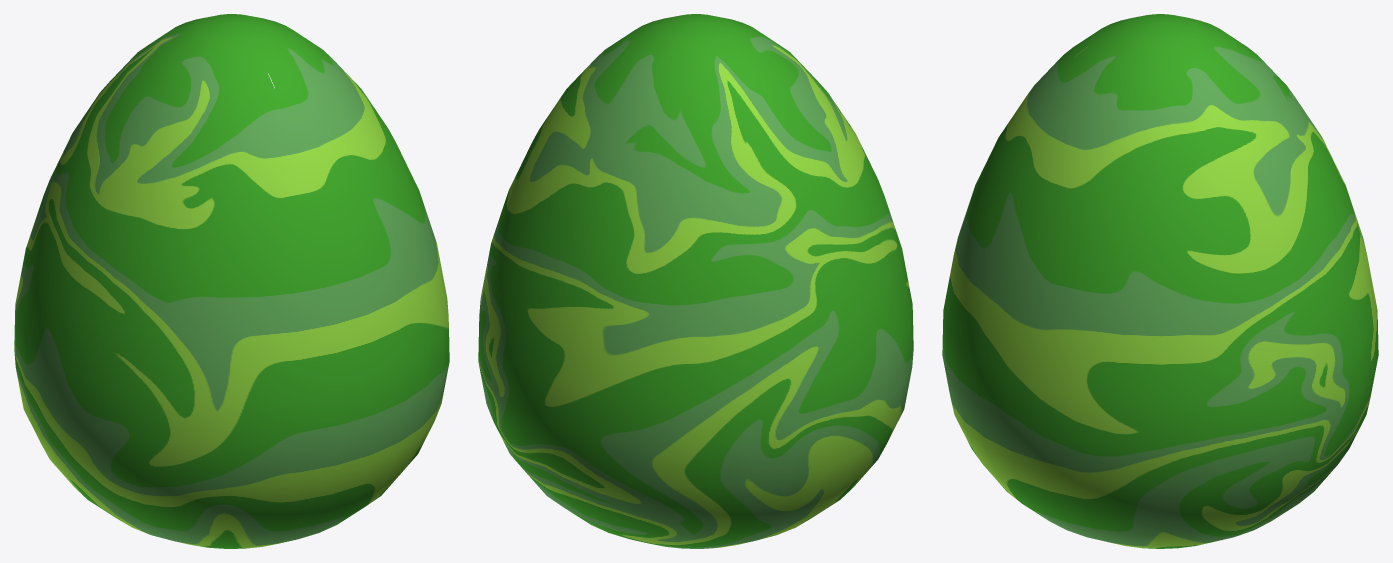
File: Egg2.fbx
3 renders of one model, left to right at view 1: azimuth 30°, elevation 25°; view 2: azimuth 150°, elevation 25°; view 3: azimuth 270°, elevation 25°, orthographic.
Visible parts, largest first — view 1: Sphere001; view 2: Sphere001; view 3: Sphere001.
Part boxes in pixels (x1,y1,x2,y2): Sphere001: [14, 14, 449, 548]; Sphere001: [478, 14, 913, 548]; Sphere001: [942, 14, 1378, 548].
Bounding box in the file's own units: 195 × 247 × 195.
